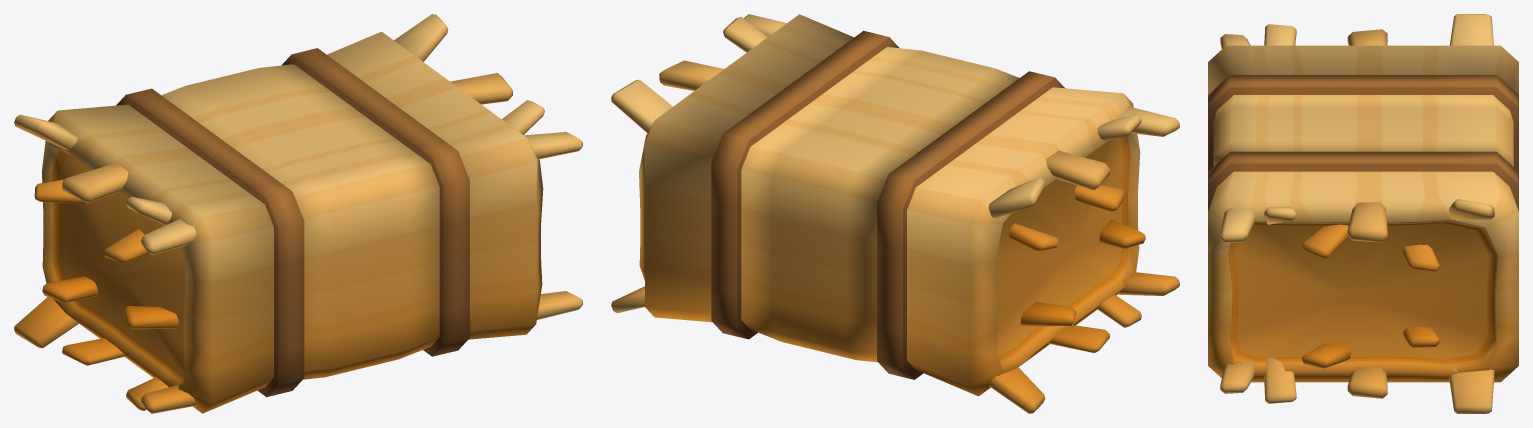
The model's file is obj_Hay.fbx.
The picture shows the model from 3 angles, left to right: view 1: azimuth 30°, elevation 25°; view 2: azimuth 150°, elevation 25°; view 3: azimuth 270°, elevation 25°; orthographic projection. The views are drawn at different scales.
Visible parts, largest first — view 1: obj_Hay; view 2: obj_Hay; view 3: obj_Hay.
Part boxes in pixels (x1,y1,x2,y2): obj_Hay: [14, 14, 582, 413]; obj_Hay: [611, 14, 1179, 413]; obj_Hay: [1208, 14, 1518, 413].
Bounding box in the file's own units: 76.38 × 37.58 × 49.3.
